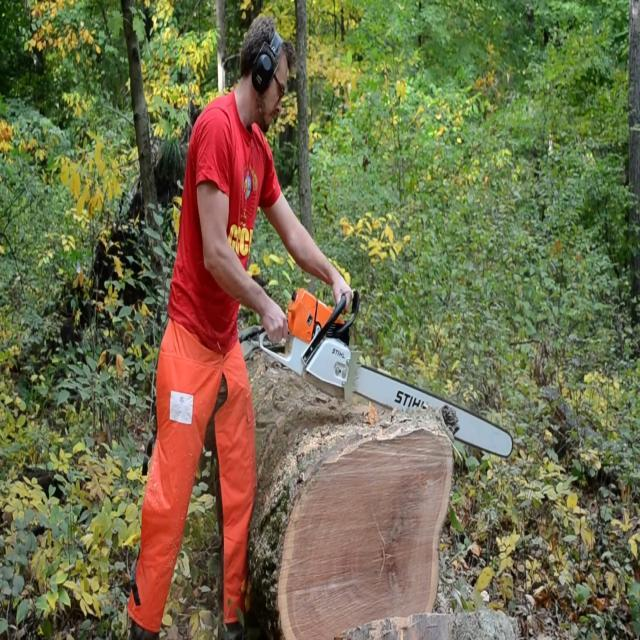Chainsaw: (240, 267, 528, 477)
